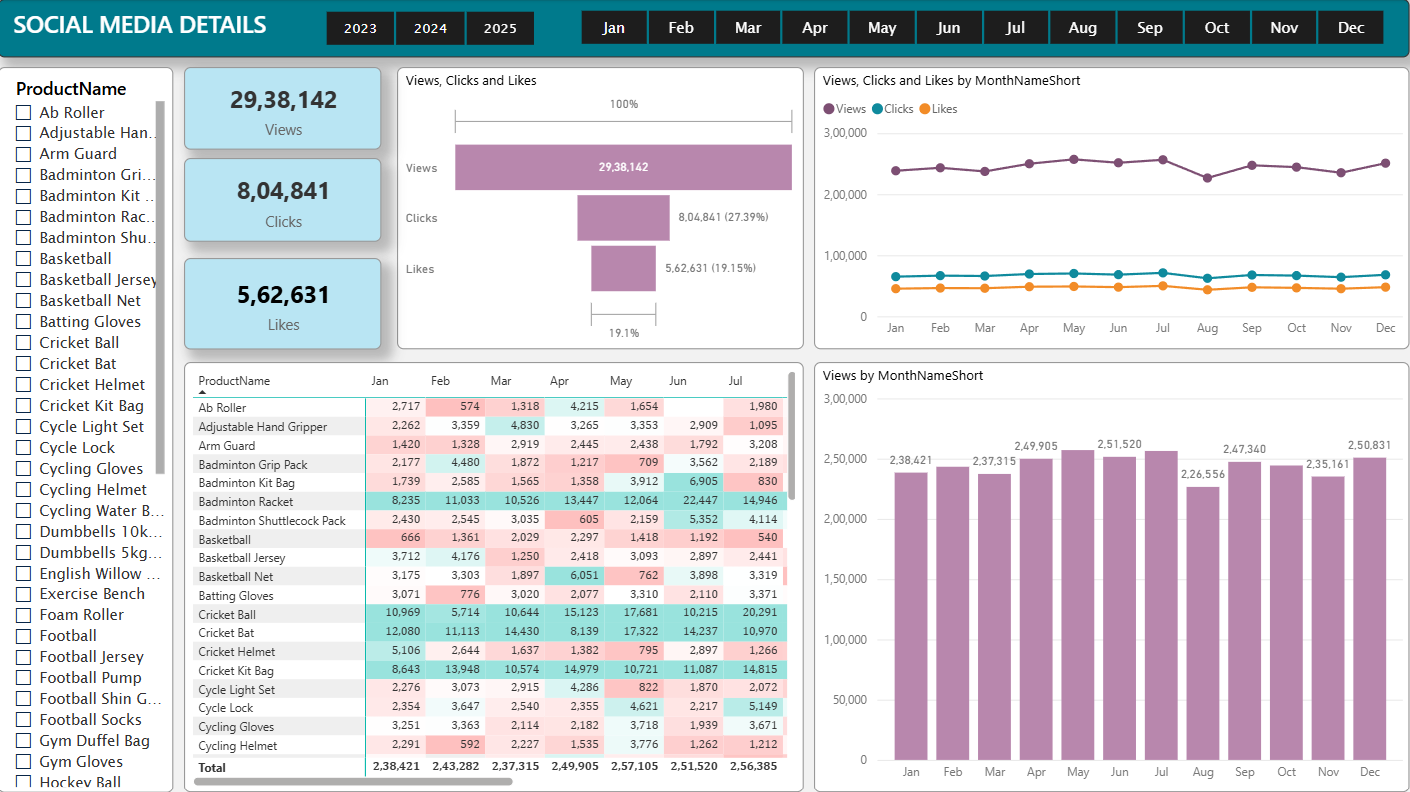

What the dashboard file says about the page in this screenshot:
{"tool":"powerbi","page":{"name":"Social Media Details","canvas":[1280,720],"ordinal":2},"visuals":[{"type":"textbox","box":[0,0,1280,52.6],"z":0},{"type":"slicer","fields":{"Values":["dim_products.ProductName"]},"box":[0,61.6,159.5,658.5],"z":1000},{"type":"lineChart","fields":{"Y":["_Calculations.Views","_Calculations.Clicks","_Calculations.Likes"],"Category":["Calendar.MonthNameShort"]},"box":[739.9,61.7,540.5,255.7],"z":2000},{"type":"funnel","fields":{"Y":["_Calculations.Views","_Calculations.Clicks","_Calculations.Likes"]},"box":[361.8,61.7,369.1,255.7],"z":3000},{"type":"card","fields":{"Values":["_Calculations.Views"]},"box":[168.7,61.7,178.6,75.3],"z":4000},{"type":"card","fields":{"Values":["_Calculations.Clicks"]},"box":[168.7,144.2,178.6,76.2],"z":5000},{"type":"card","fields":{"Values":["_Calculations.Likes"]},"box":[168.7,234.9,178.6,82.5],"z":6000},{"type":"slicer","fields":{"Values":["Calendar.MonthNameShort"]},"box":[503.3,3.6,777.1,44.4],"z":7000},{"type":"slicer","fields":{"Values":["Calendar.Year"]},"box":[272,4.5,238.5,44.4],"z":8000},{"type":"pivotTable","fields":{"Rows":["dim_products.ProductName"],"Values":["_Calculations.Views"],"Columns":["Calendar.MonthNameShort"]},"box":[168.7,329.2,562.2,390.8],"z":9000},{"type":"clusteredColumnChart","fields":{"Category":["Calendar.MonthNameShort"],"Y":["_Calculations.Views"]},"box":[739.9,329.2,540.5,390.8],"z":10000}]}

Visuals, with their boxes in screenshot pixels (x1, y1, x2, y2), scaled from the page's 1280x720 canvas onto the 1410x792 screenshot:
textbox: x1=0, y1=0, x2=1409, y2=58
slicer - dim_products.ProductName: x1=0, y1=68, x2=176, y2=791
lineChart - _Calculations.Views x _Calculations.Clicks: x1=815, y1=68, x2=1409, y2=349
funnel - _Calculations.Views x _Calculations.Clicks: x1=399, y1=68, x2=805, y2=349
card - _Calculations.Views: x1=186, y1=68, x2=383, y2=151
card - _Calculations.Clicks: x1=186, y1=159, x2=383, y2=242
card - _Calculations.Likes: x1=186, y1=258, x2=383, y2=349
slicer - Calendar.MonthNameShort: x1=554, y1=4, x2=1409, y2=53
slicer - Calendar.Year: x1=300, y1=5, x2=562, y2=54
pivotTable - dim_products.ProductName x _Calculations.Views: x1=186, y1=362, x2=805, y2=791
clusteredColumnChart - Calendar.MonthNameShort x _Calculations.Views: x1=815, y1=362, x2=1409, y2=791
